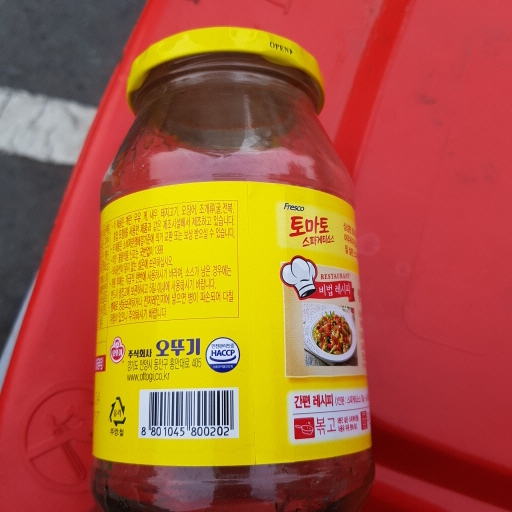Glass_5: (88, 25, 377, 512)
